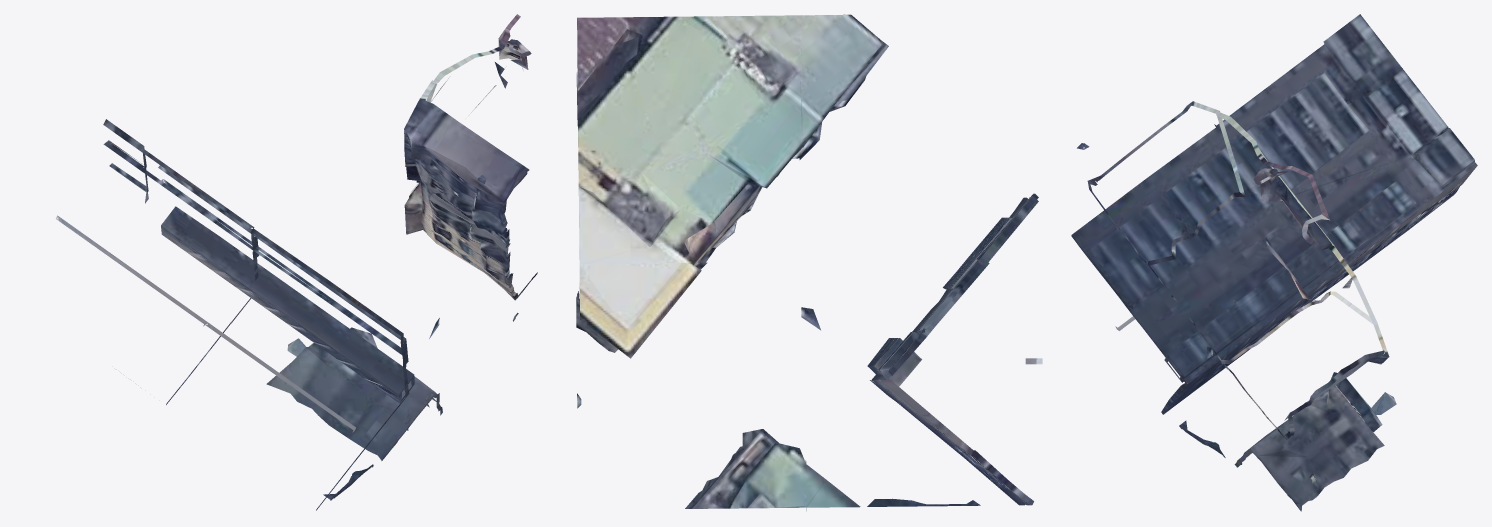
3 views of the same model, side by side, from view 1: azimuth 30°, elevation 25°; view 2: azimuth 150°, elevation 25°; view 3: azimuth 270°, elevation 25° (orthographic). The views are drawn at different scales.
Bounding box in the file's own units: 50.29 × 40.57 × 39.57.
2 materials, 2 textured.
